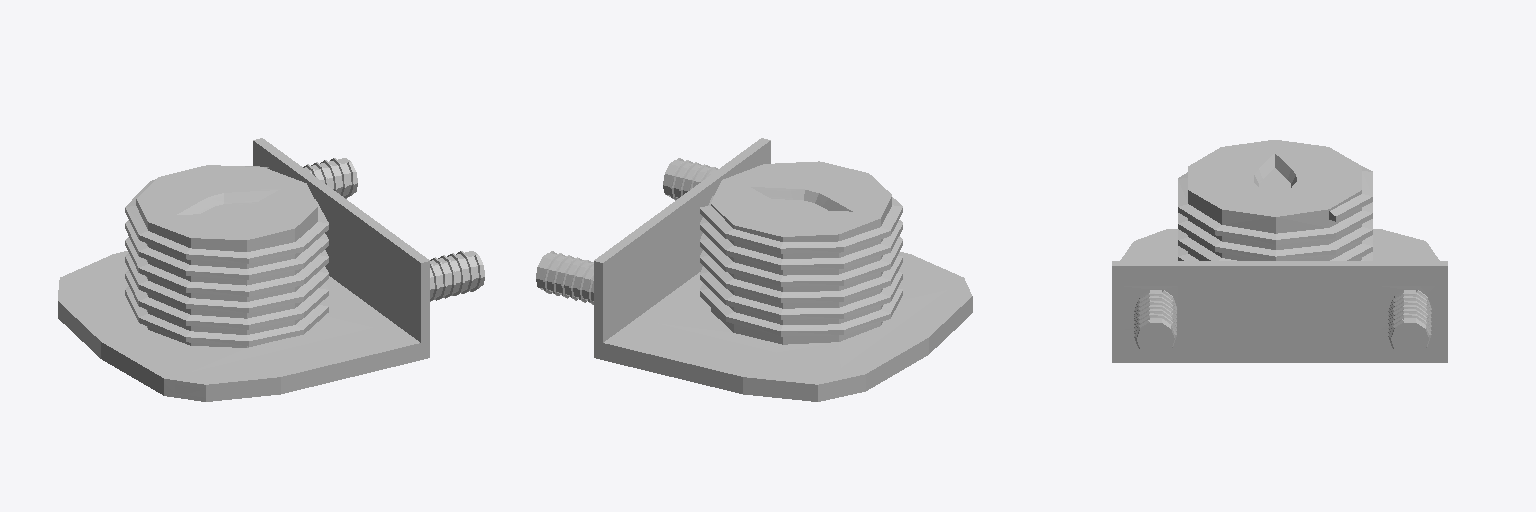
File: 868227_componente n141413.obj
3 renders of one model, left to right at view 1: azimuth 30°, elevation 25°; view 2: azimuth 150°, elevation 25°; view 3: azimuth 270°, elevation 25°, orthographic.
Parts seen in each view (by area): view 1: Box001; view 2: Box001; view 3: Box001.
Part boxes in pixels (x1,y1,x2,y2): Box001: (58,138,484,401); Box001: (536,138,972,401); Box001: (1112,140,1447,362).
Size of the model in its own units: 1.52 by 0.5766 by 1.4.